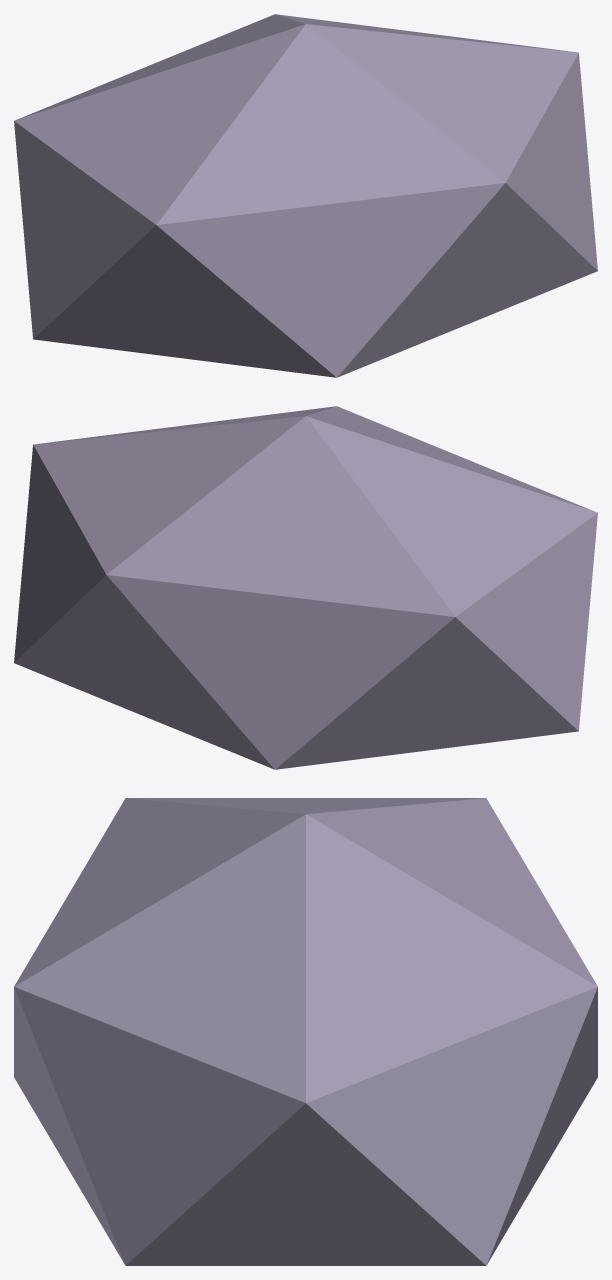
Rendered from env-rock.glb.
The picture shows the model from 3 angles, top to bottom: view 1: azimuth 30°, elevation 25°; view 2: azimuth 150°, elevation 25°; view 3: azimuth 270°, elevation 25°; orthographic projection. The views are drawn at different scales.
Parts seen in each view (by area): view 1: Env_Rock; view 2: Env_Rock; view 3: Env_Rock.
Boxes of the visible parts, bbox=[...] form: Env_Rock: bbox=[14, 14, 597, 377]; Env_Rock: bbox=[14, 406, 597, 769]; Env_Rock: bbox=[14, 798, 597, 1265].
Bounding box in the file's own units: 0.186 × 0.112 × 0.1361.
